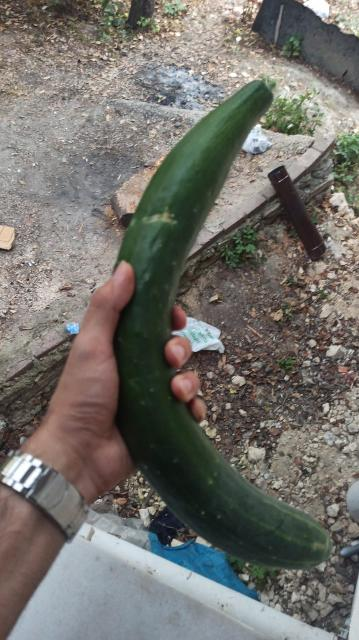Organik: (104, 77, 332, 578)
